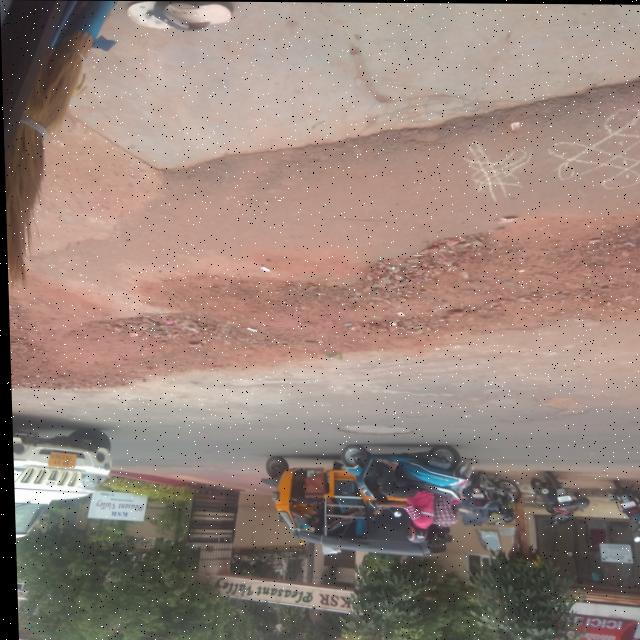plate: (43, 449, 74, 471)
